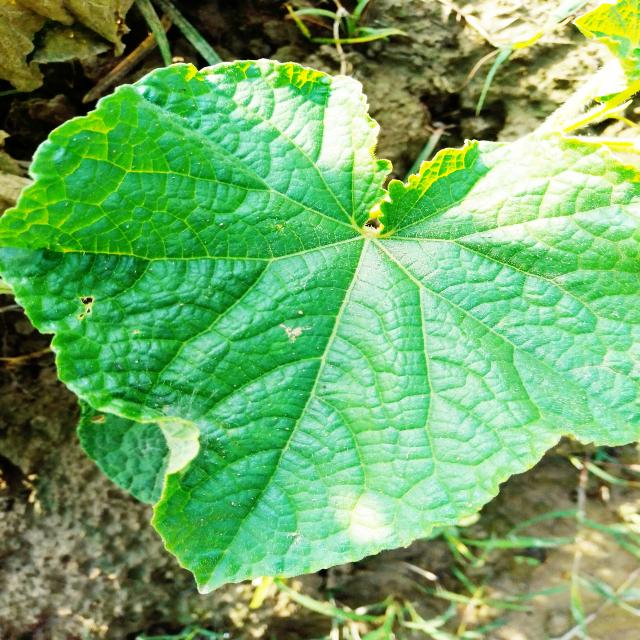Fresh-Leaf: (0, 62, 640, 595)
